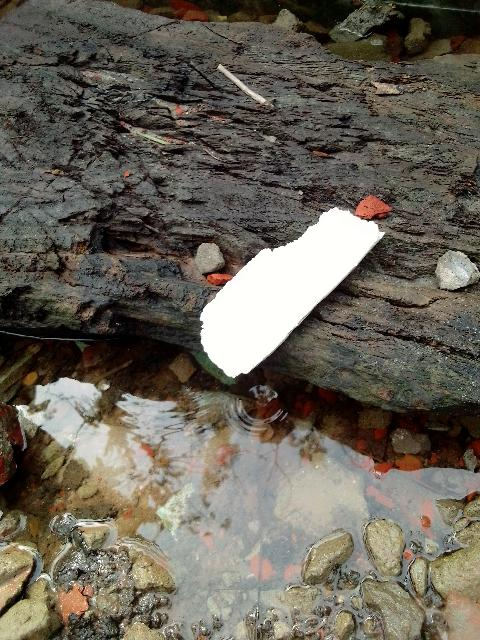cocksheet: (180, 170, 389, 378)
